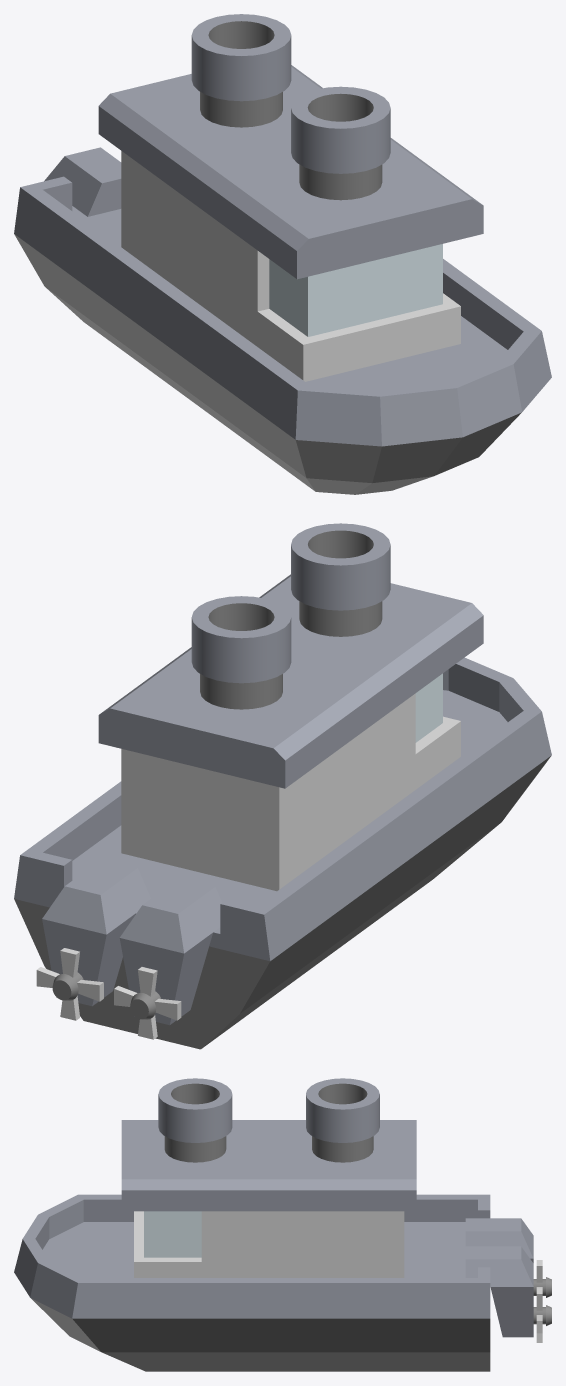
The model's file is watercraftPack_024.glb.
3 renders of one model, top to bottom at view 1: azimuth 30°, elevation 25°; view 2: azimuth 150°, elevation 25°; view 3: azimuth 270°, elevation 25°, orthographic. The views are drawn at different scales.
Visible parts, largest first — view 1: Mesh5 Group1 Model, Mesh1 Group2 Group1 Model; view 2: Mesh5 Group1 Model, Mesh1 Group2 Group1 Model, Mesh4 Group5 Group1 Model, Mesh3 Group4 Group1 Model, Mesh2 Group3 Group1 Model; view 3: Mesh5 Group1 Model, Mesh4 Group5 Group1 Model, Mesh1 Group2 Group1 Model.
Part boxes in pixels (x1,y1,x2,y2): Mesh5 Group1 Model: [14, 14, 551, 494]; Mesh1 Group2 Group1 Model: [44, 147, 121, 216]; Mesh5 Group1 Model: [14, 523, 551, 1049]; Mesh1 Group2 Group1 Model: [119, 878, 221, 1025]; Mesh4 Group5 Group1 Model: [42, 859, 150, 1006]; Mesh3 Group4 Group1 Model: [36, 948, 103, 1020]; Mesh2 Group3 Group1 Model: [114, 967, 181, 1039]; Mesh5 Group1 Model: [14, 1078, 490, 1371]; Mesh4 Group5 Group1 Model: [465, 1246, 551, 1337]; Mesh1 Group2 Group1 Model: [465, 1218, 551, 1297].
Size of the model in its own units: 2.59 by 3.33 by 6.34.
